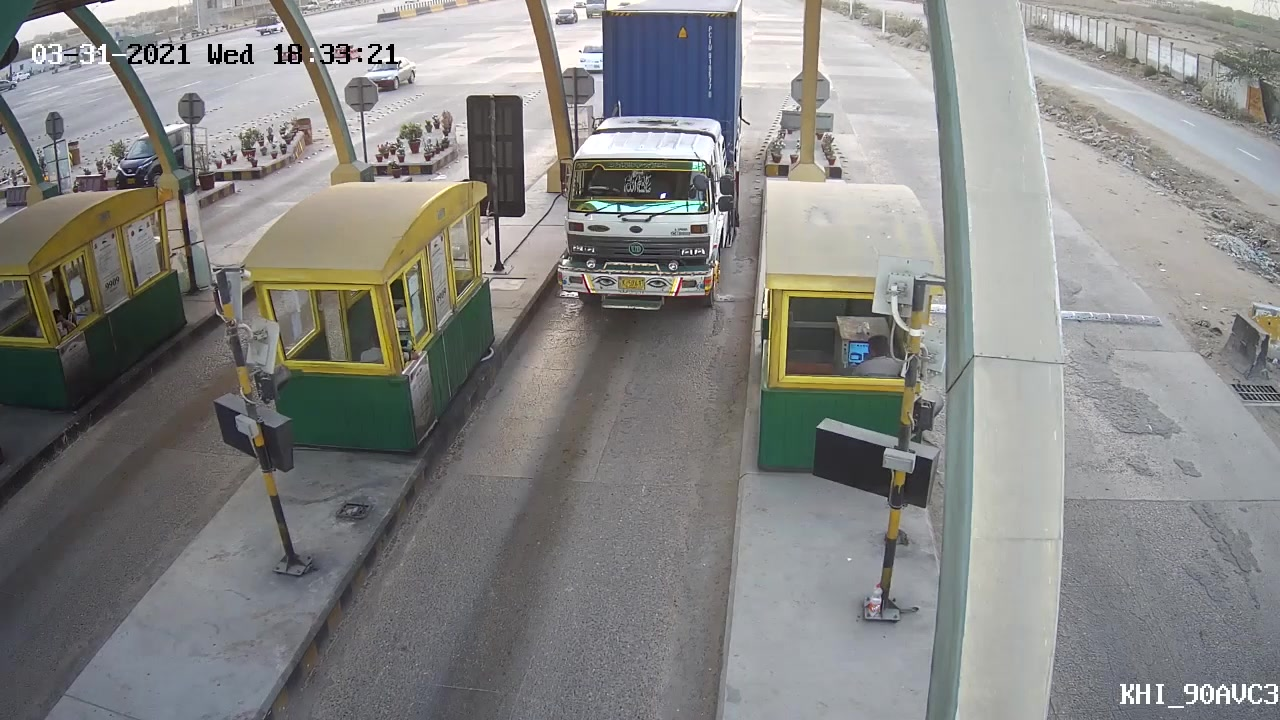F6: (544, 1, 752, 318)
